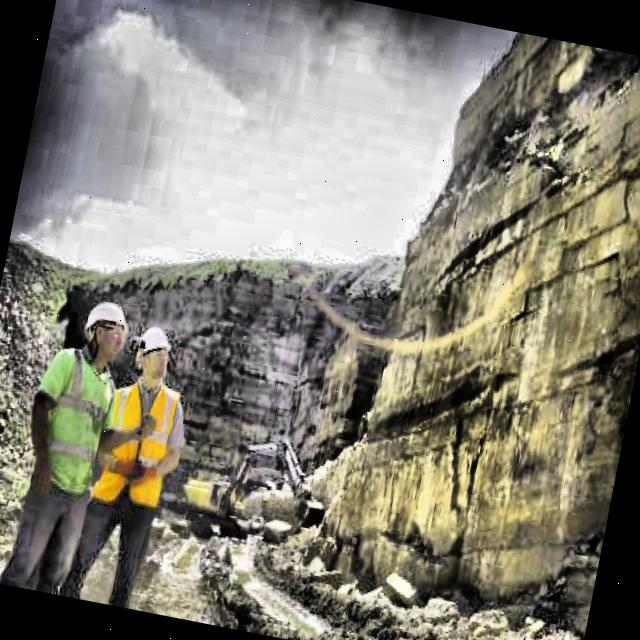helmet: (74, 292, 136, 366), (128, 316, 178, 388)
